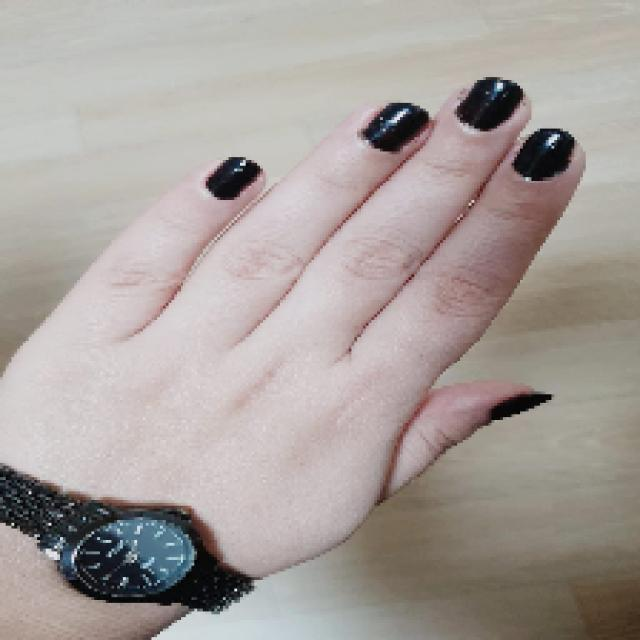Nail: (456, 78, 524, 131), (360, 102, 430, 151), (512, 129, 575, 180), (206, 156, 261, 199), (491, 392, 551, 419)
